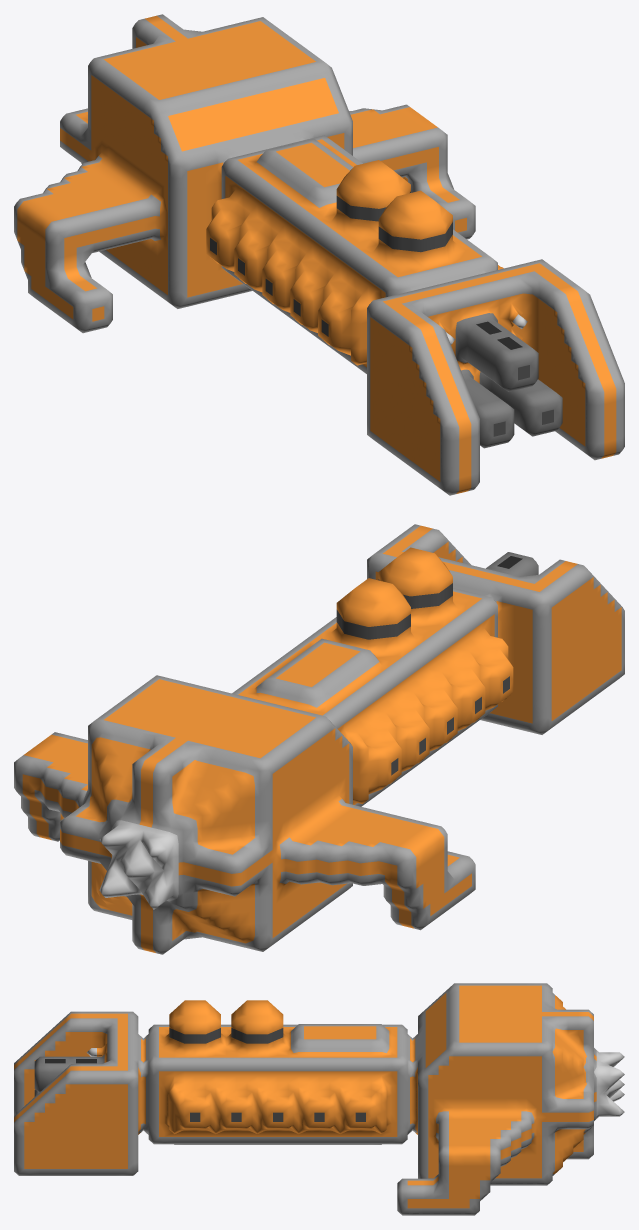
The model's file is ndrc-3-slagschip-class.obj.
3 views of the same model, one above another, from view 1: azimuth 30°, elevation 25°; view 2: azimuth 150°, elevation 25°; view 3: azimuth 270°, elevation 25° (orthographic). The views are drawn at different scales.
Bounding box in the file's own units: 33 × 16 × 59.
1 material, 1 textured.
